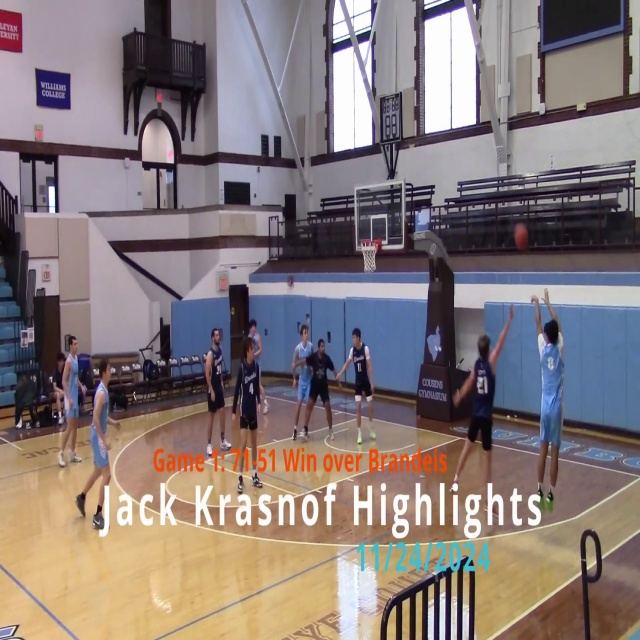Basketball: (513, 223, 528, 250), (354, 395, 362, 402)
